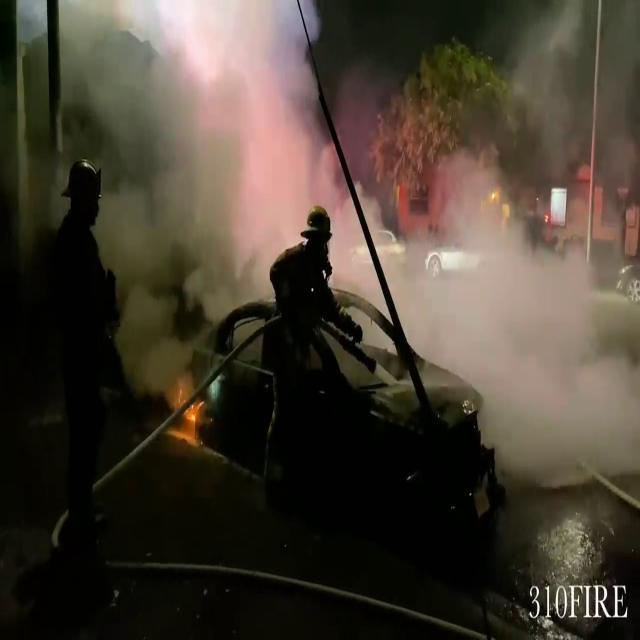Smoke: (414, 1, 640, 483), (82, 0, 308, 396)
